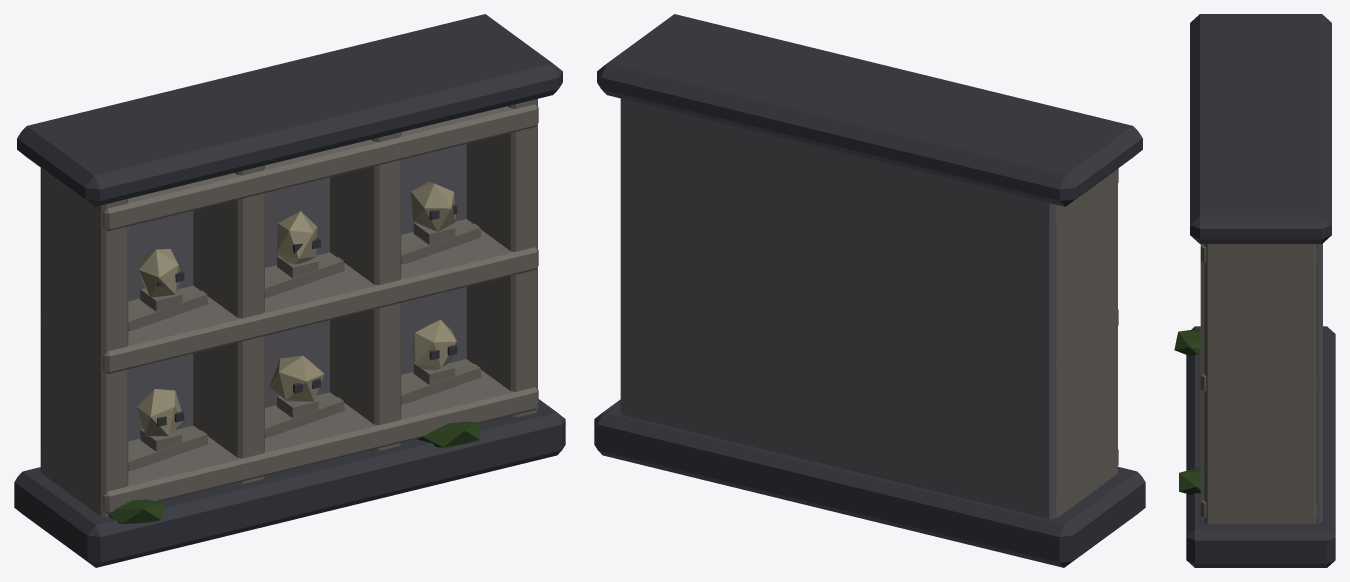
The model's file is Ossuary_Niche_Wall.glb.
3 renders of one model, left to right at view 1: azimuth 30°, elevation 25°; view 2: azimuth 150°, elevation 25°; view 3: azimuth 270°, elevation 25°, orthographic. The views are drawn at different scales.
Visible parts, largest first — view 1: Ossuary_Niche_Wall; view 2: Ossuary_Niche_Wall; view 3: Ossuary_Niche_Wall.
Part boxes in pixels (<box>): Ossuary_Niche_Wall: <box>14,14,565,567</box>; Ossuary_Niche_Wall: <box>594,14,1145,567</box>; Ossuary_Niche_Wall: <box>1174,14,1335,567</box>.
Size of the model in its own units: 3.5 by 2.73 by 1.14.
